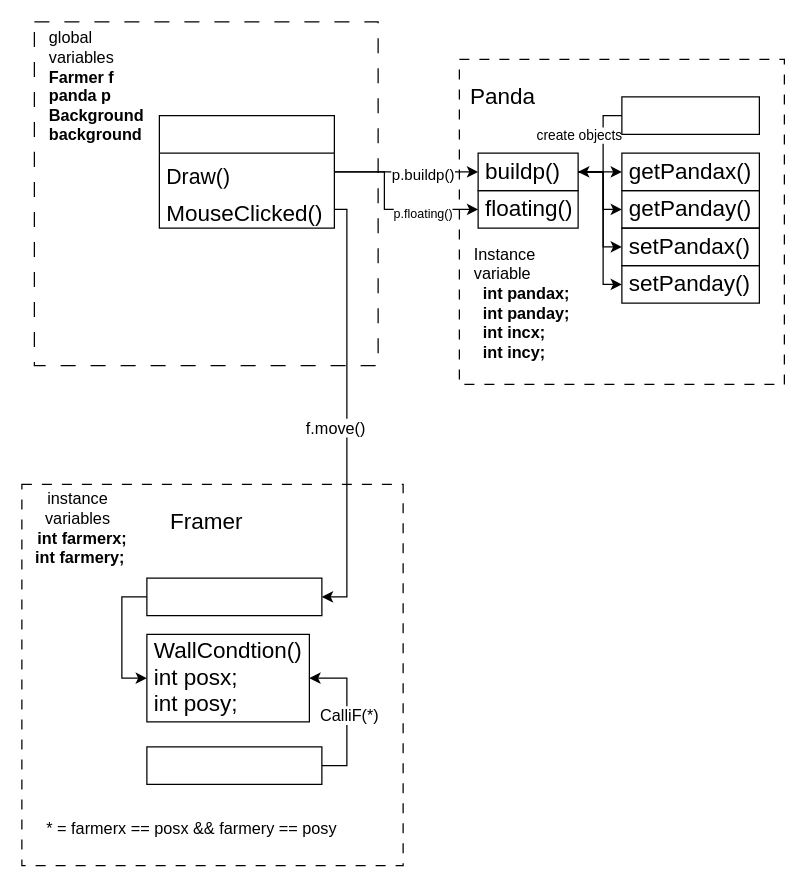
Some shapes in this 806 by 888 pixel diagram are drawn without their labels. The shapes that lost their labels are listed below. From the top down, each one's box as (x1, y1, x2, y2) in pixels, then its label:
(621, 96, 759, 134): Panda(int x , int y)
(158, 114, 334, 228): Main
(146, 577, 322, 616): move()
(146, 746, 322, 784): wall
